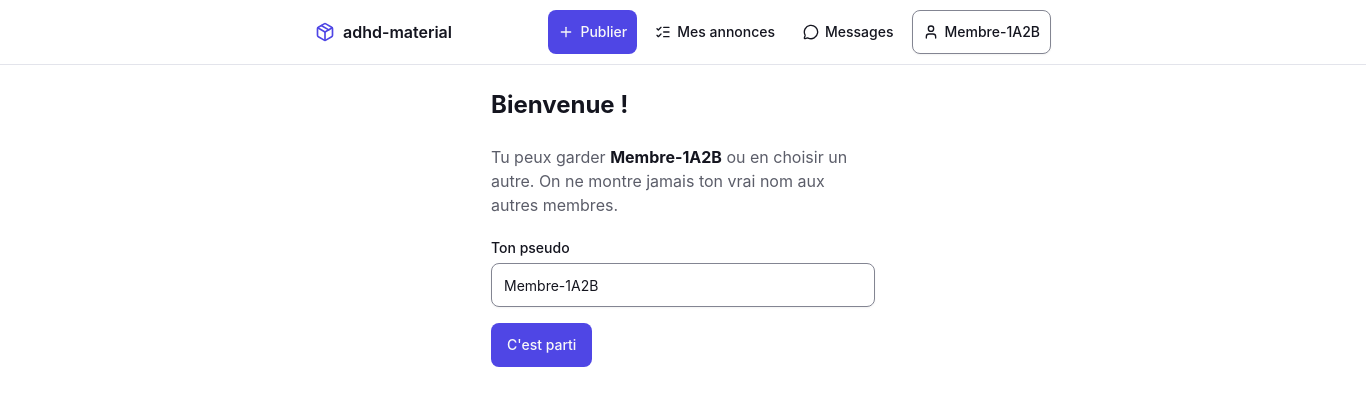
Test case: gardes de routes › affiche l'erreur de pseudo sans vider le champ
Replace the text in the field labelled "Ton pseudo" with "Admin": (683, 285) [491,263,875,307]
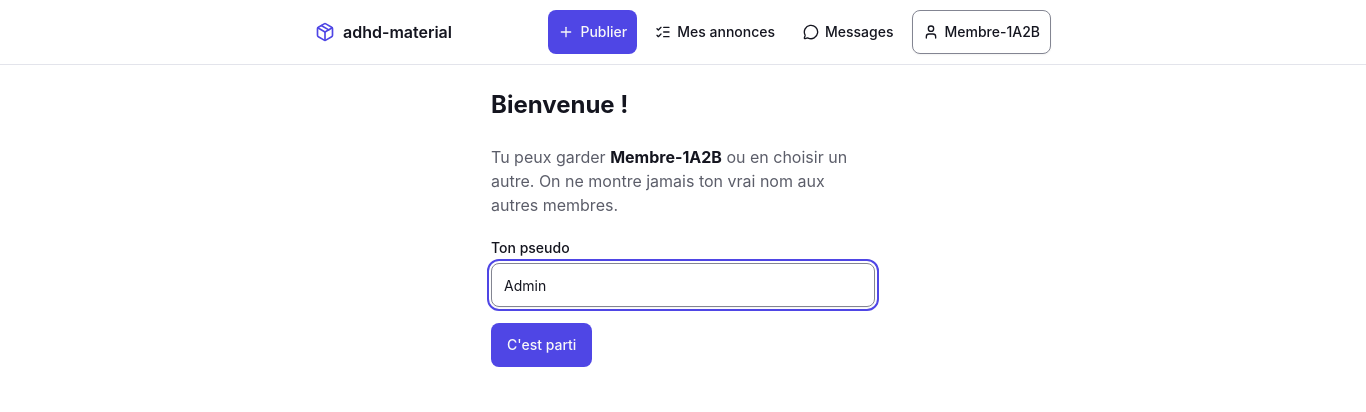
Click the button "C'est parti": click(542, 345) [491,323,592,367]
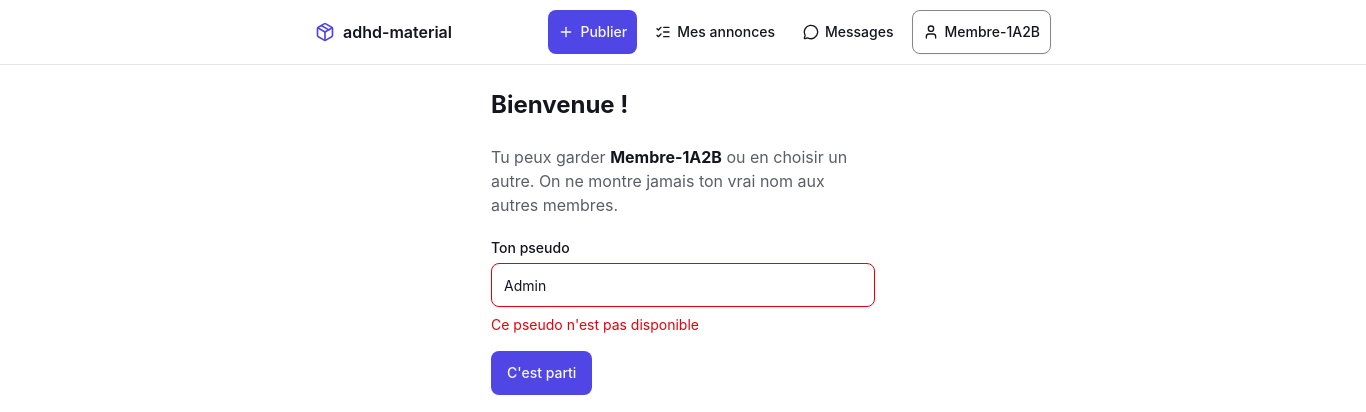
Expected: the text "Ce pseudo n'est pas disponible" is shown, [491,316,699,333]
